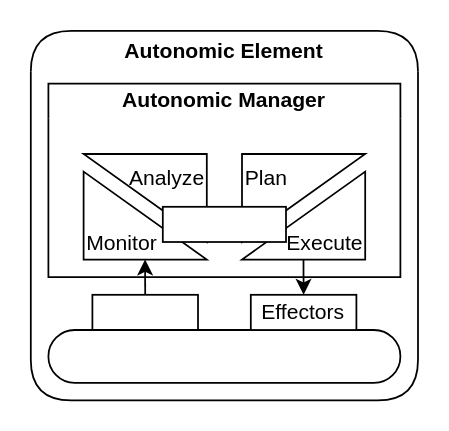
The diagram is 449 pixels wide and 431 high, and some of its shapes have lost their labels. Here are the shapes that lost their labels. From the top down, the centre of each, then its label:
the point at 223,223: Knowledge
the point at 144,311: Sensors
the point at 223,355: Managed Element
